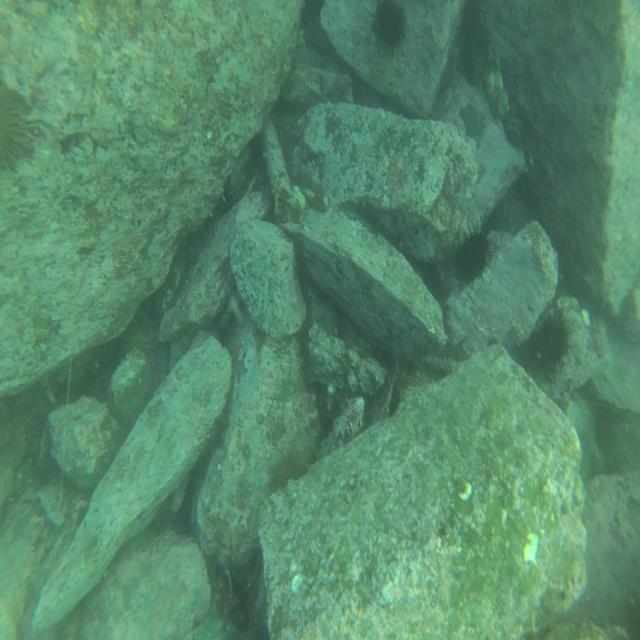echinus: (2, 87, 34, 170), (452, 219, 492, 277), (534, 310, 573, 368), (372, 0, 410, 59)
